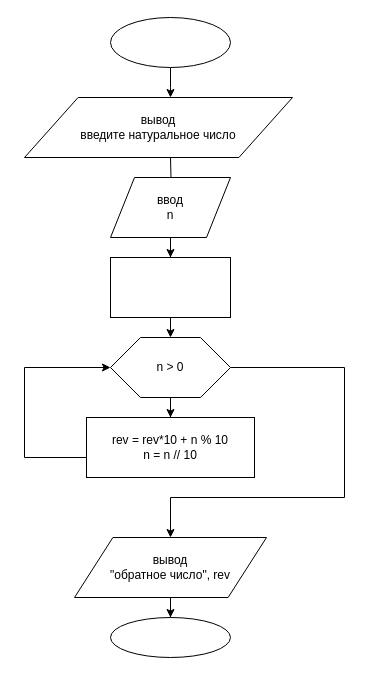
This 370x675 diagram has some shape labels left out. Here are the shapes that lost their labels. From the top down, the centre of each, then its label:
At point 170,42: "начало".
At point 170,287: "rev = 0".
At point 170,637: "конец".
